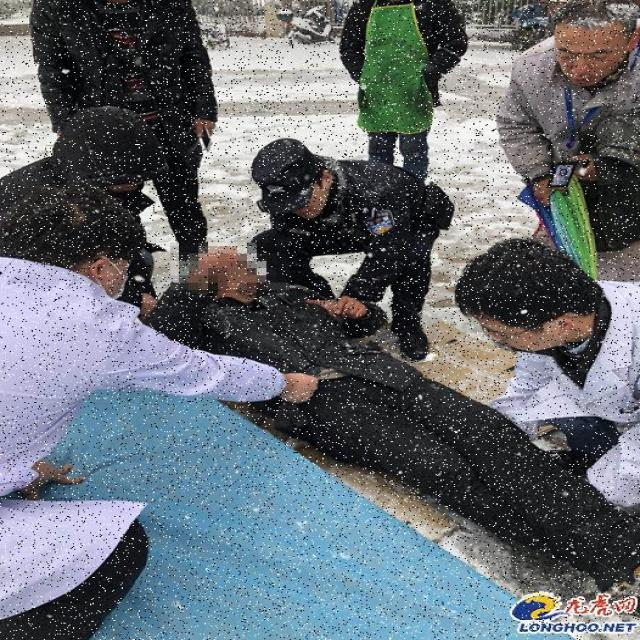fall: (156, 252, 624, 569)
